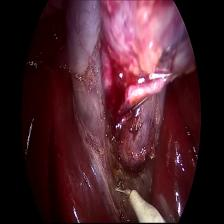Hook: (113, 182, 167, 224)
